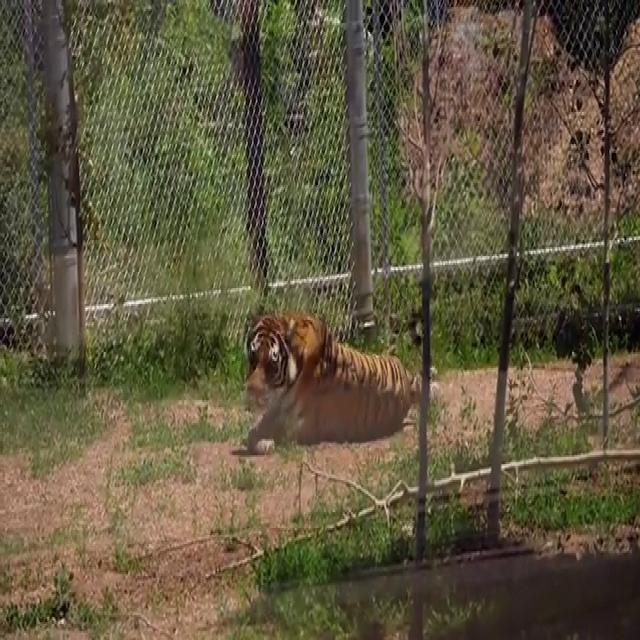tiger: (243, 313, 413, 454)
